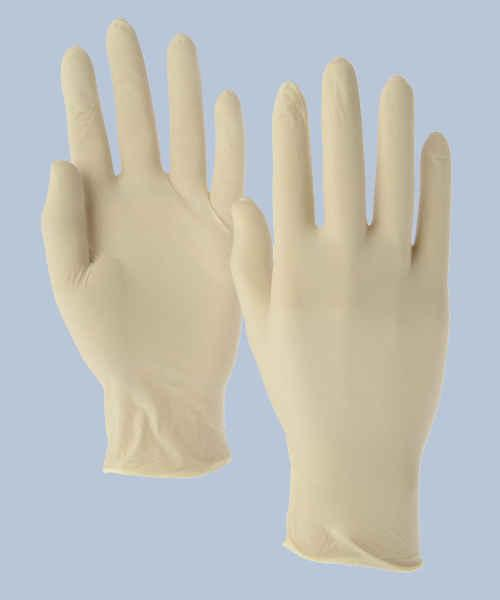gloves: (229, 69, 454, 570), (44, 23, 250, 469)
